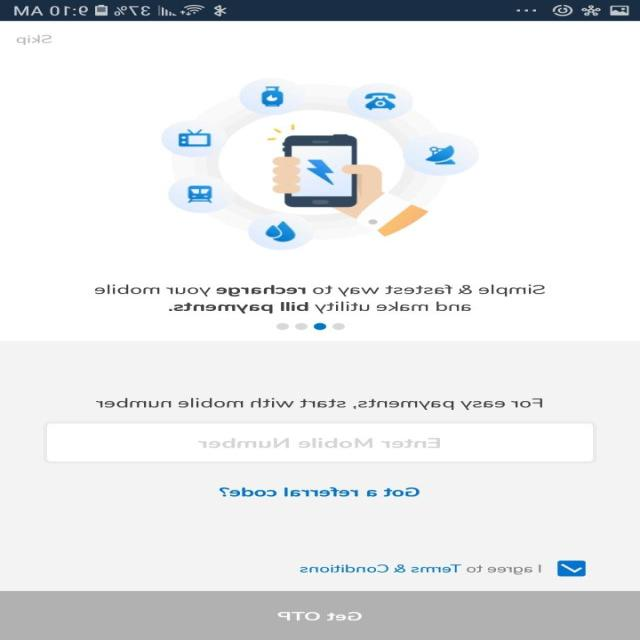EditText: (44, 422, 596, 464)
Image: (162, 77, 480, 250)
Text: (95, 284, 546, 314), (96, 397, 543, 410), (199, 438, 441, 448), (300, 564, 542, 574), (220, 486, 420, 496), (16, 34, 54, 45)
TextButton: (1, 590, 640, 640)
